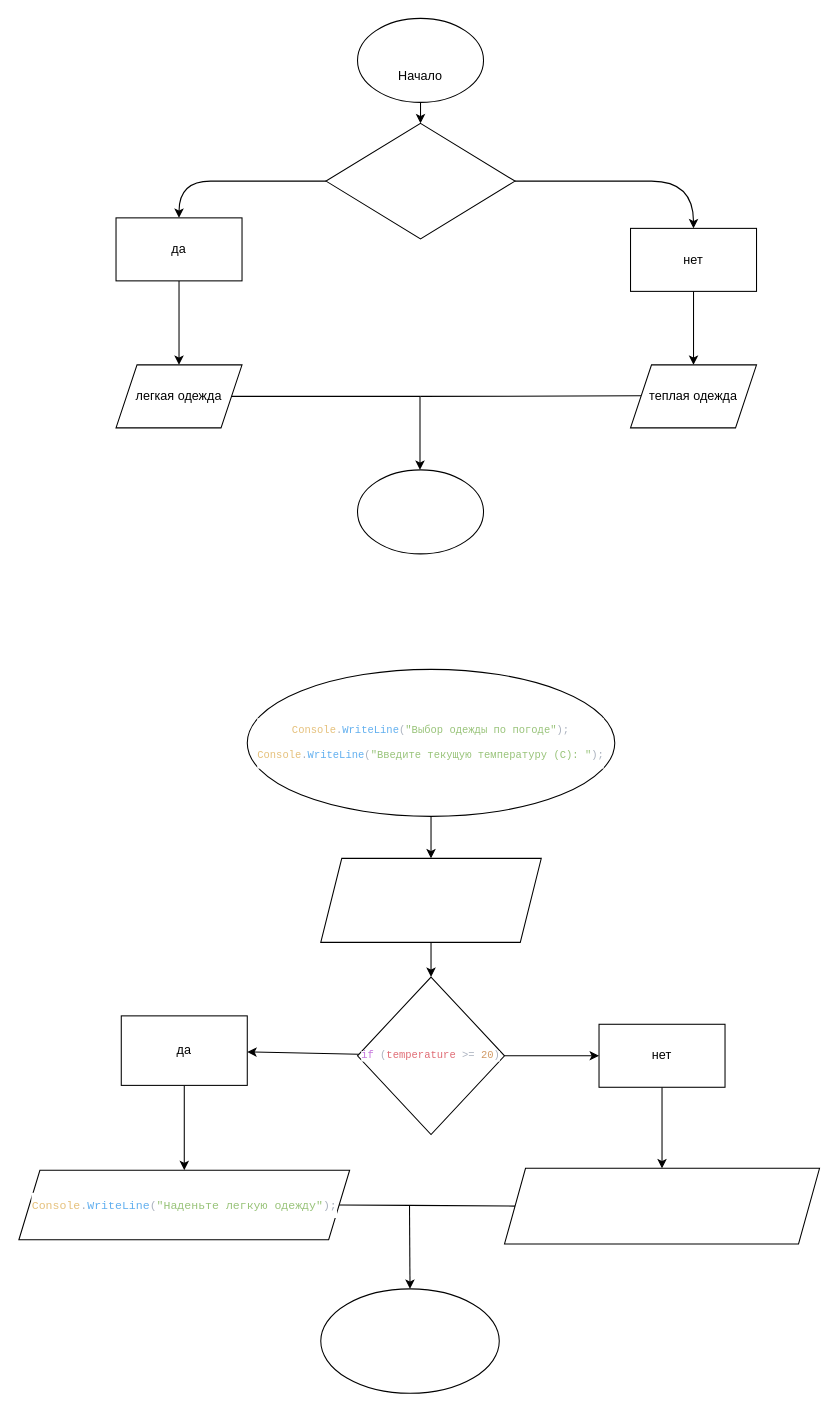
Some shapes in this 838 by 1412 pixel diagram are drawn without their labels. The shapes that lost their labels are listed below. From the top down, each one's centre as x and y in pixels, then its label:
pixel 420 180: температура ≥ 20°C
pixel 420 511: конец
pixel 430 899: int temperature = Convert . ToInt32 ( Console . ReadLine ());
pixel 661 1205: Console . WriteLine ( "Наденьте теплую одежду" );
pixel 409 1340: Console.WriteLine("Хорошего дня!");
